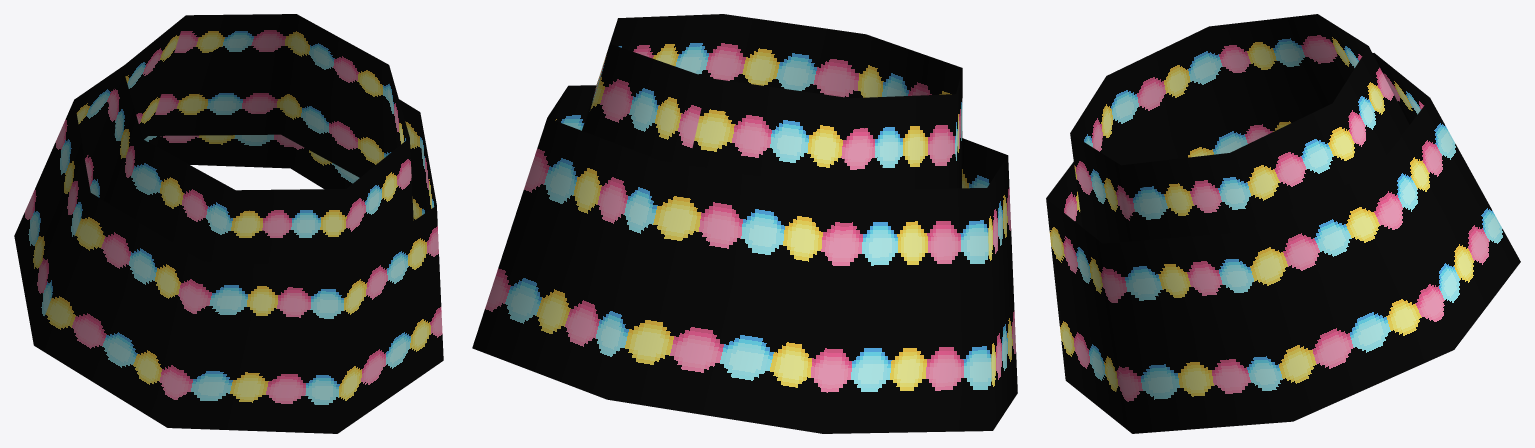
Rendered from code_head78.gltf.
3 renders of one model, left to right at view 1: azimuth 30°, elevation 25°; view 2: azimuth 150°, elevation 25°; view 3: azimuth 270°, elevation 25°, orthographic. The views are drawn at different scales.
Parts seen in each view (by area): view 1: code_head78; view 2: code_head78; view 3: code_head78.
Boxes of the visible parts, x1,y1,x2,y2 form: code_head78: (14, 14, 443, 433); code_head78: (472, 14, 1017, 433); code_head78: (1046, 14, 1520, 433).
Size of the model in its own units: 0.2358 by 0.1816 by 0.2363.
Materials: 1 (1 with a texture image).
